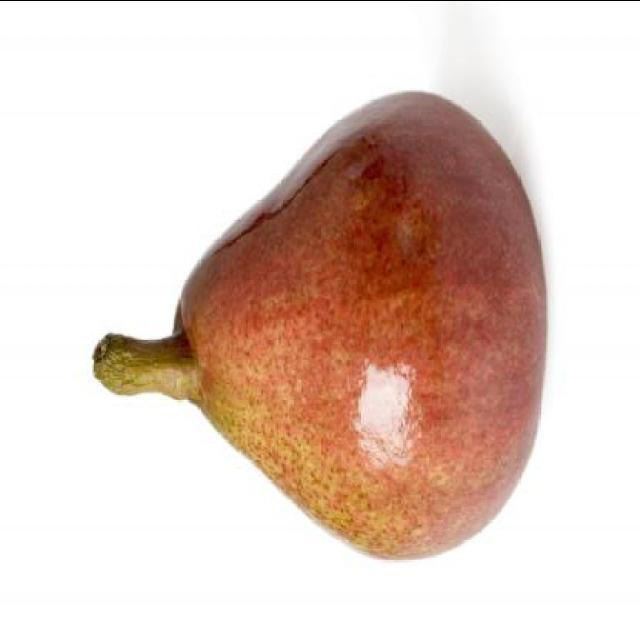Pear: (172, 90, 548, 561)
